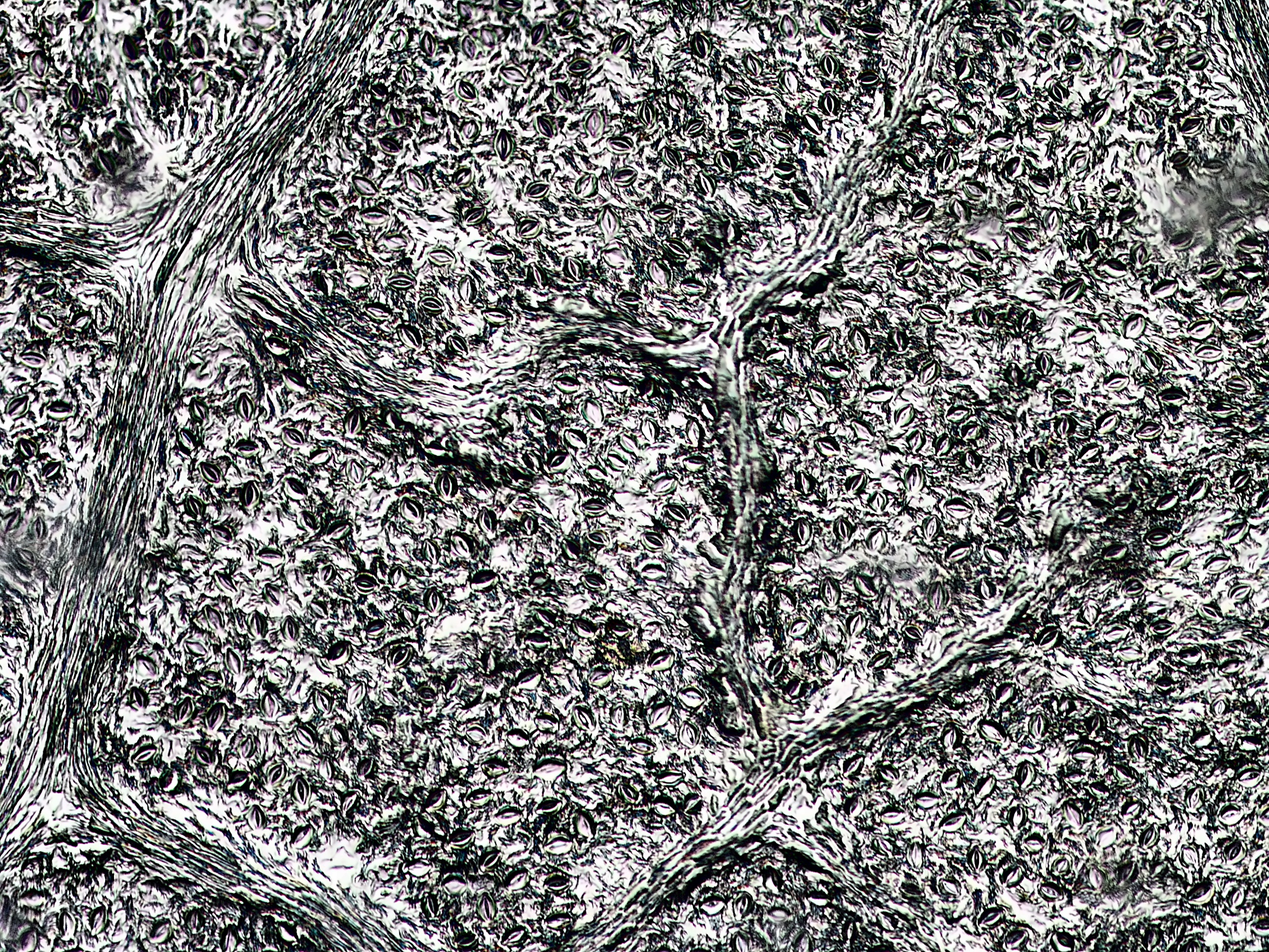stomata: (600, 241, 631, 269), (494, 126, 516, 162), (580, 399, 609, 426), (638, 558, 669, 583), (818, 575, 841, 608), (532, 758, 568, 779), (1187, 879, 1214, 907), (661, 237, 692, 261), (648, 257, 671, 289), (916, 360, 943, 387), (582, 109, 606, 139), (57, 911, 81, 941), (433, 469, 457, 499), (645, 648, 676, 671), (848, 417, 874, 444), (313, 191, 341, 216), (607, 701, 631, 730), (497, 63, 530, 84), (476, 506, 498, 537), (1041, 207, 1063, 238), (522, 631, 553, 653), (807, 383, 832, 410), (599, 206, 620, 238), (572, 704, 596, 732), (649, 702, 673, 730), (944, 497, 976, 518), (1101, 622, 1133, 643), (574, 810, 597, 839), (976, 719, 1005, 742), (481, 307, 516, 326), (4, 467, 26, 497), (223, 647, 245, 677), (246, 10, 277, 31), (1059, 277, 1084, 303), (441, 874, 468, 898), (1069, 148, 1093, 175), (89, 903, 108, 937), (1208, 400, 1242, 419), (203, 603, 226, 631), (847, 326, 870, 354), (486, 243, 515, 265), (1079, 226, 1101, 255), (1218, 290, 1247, 312), (679, 721, 701, 750), (1235, 765, 1264, 787), (290, 777, 311, 807), (404, 857, 434, 878), (534, 114, 559, 139), (397, 323, 422, 348), (4, 395, 29, 420), (282, 367, 307, 392), (328, 640, 352, 666), (790, 186, 816, 210), (1187, 477, 1211, 503), (1223, 519, 1247, 545), (1036, 627, 1062, 651), (1218, 802, 1244, 826), (0, 508, 23, 535), (574, 172, 597, 199), (896, 150, 923, 173), (1188, 317, 1215, 340), (918, 514, 941, 541), (1129, 736, 1152, 763), (457, 274, 477, 305), (477, 892, 497, 923), (578, 499, 609, 519), (930, 580, 950, 611), (819, 52, 841, 80), (639, 531, 667, 553), (1144, 348, 1166, 376), (976, 906, 1004, 928), (1063, 801, 1085, 829), (471, 570, 500, 591), (778, 407, 799, 436), (1028, 710, 1049, 739), (198, 460, 223, 484), (212, 569, 237, 593), (248, 610, 268, 640), (148, 920, 172, 945), (1194, 343, 1224, 363), (578, 572, 608, 592), (765, 904, 795, 924), (1158, 387, 1188, 407), (854, 574, 877, 600), (732, 893, 755, 919), (1223, 839, 1246, 865), (418, 293, 445, 315), (1151, 277, 1178, 299), (234, 393, 255, 421), (722, 83, 750, 104), (402, 495, 423, 523), (544, 452, 572, 473), (891, 327, 912, 355), (570, 617, 598, 638), (1135, 420, 1163, 441), (427, 247, 456, 267), (19, 351, 48, 371), (241, 480, 261, 509), (344, 406, 364, 435), (280, 615, 300, 644), (697, 171, 717, 200), (649, 203, 678, 223), (684, 418, 704, 447), (1017, 761, 1037, 790), (1185, 784, 1205, 813), (206, 701, 224, 733), (862, 385, 894, 403), (680, 684, 704, 708), (378, 134, 403, 157), (819, 92, 842, 117), (1122, 314, 1145, 339), (326, 520, 352, 542), (264, 760, 286, 786), (352, 573, 378, 595), (450, 828, 476, 850), (858, 19, 884, 41), (950, 113, 976, 135), (985, 546, 1011, 568), (66, 82, 85, 112), (364, 302, 394, 321), (917, 304, 947, 323), (964, 245, 991, 266), (587, 667, 614, 688), (630, 736, 657, 757), (834, 516, 855, 543), (868, 527, 888, 555), (914, 789, 942, 809), (657, 769, 688, 787), (1094, 826, 1117, 850), (425, 587, 444, 616), (494, 807, 523, 826), (680, 277, 709, 296), (821, 361, 850, 380), (610, 32, 632, 57), (281, 425, 306, 447), (1186, 50, 1211, 72), (1068, 191, 1090, 216), (846, 470, 868, 495), (775, 589, 797, 614), (993, 680, 1015, 705), (975, 774, 997, 799), (367, 719, 393, 740), (502, 926, 528, 947), (866, 650, 892, 671), (1166, 550, 1192, 571), (1051, 931, 1077, 952), (29, 51, 49, 78), (47, 400, 74, 420), (532, 712, 559, 732), (562, 256, 582, 283), (552, 374, 579, 394), (1008, 227, 1035, 247), (812, 436, 839, 456), (681, 454, 708, 474), (764, 556, 794, 574), (699, 895, 726, 915), (905, 463, 923, 493), (991, 505, 1018, 525), (1008, 804, 1028, 831), (19, 889, 47, 908), (693, 31, 712, 59), (606, 136, 634, 155), (1084, 781, 1112, 800), (404, 169, 427, 192), (451, 166, 474, 189), (618, 431, 641, 454), (897, 256, 920, 279), (479, 850, 503, 872), (1122, 17, 1146, 39), (665, 502, 689, 524), (1004, 930, 1028, 952), (359, 208, 390, 225), (352, 175, 377, 196), (346, 460, 367, 485), (451, 533, 472, 558), (661, 146, 682, 171), (1089, 103, 1110, 128), (893, 402, 914, 427), (876, 761, 901, 782), (1177, 846, 1202, 867), (421, 30, 439, 59), (256, 548, 285, 566), (460, 118, 480, 144), (314, 688, 334, 714), (516, 671, 542, 691), (779, 14, 799, 40), (650, 475, 676, 495), (1004, 362, 1024, 388), (29, 516, 48, 543), (483, 758, 510, 777), (774, 161, 801, 180), (1168, 232, 1195, 251), (797, 470, 816, 497), (880, 807, 907, 826), (1120, 578, 1147, 597), (544, 913, 574, 930), (1118, 647, 1148, 664), (134, 653, 156, 676), (964, 179, 986, 202), (533, 607, 556, 629), (1146, 527, 1169, 549), (121, 34, 139, 62), (457, 78, 478, 102), (220, 924, 238, 952), (341, 791, 362, 815), (390, 644, 411, 668), (505, 870, 529, 891), (545, 837, 573, 855), (818, 14, 839, 38), (1111, 49, 1129, 77), (699, 400, 723, 421), (843, 754, 864, 778), (1223, 375, 1251, 393), (1237, 733, 1265, 751), (266, 335, 291, 355), (604, 373, 629, 393), (955, 56, 975, 81), (937, 150, 957, 175), (950, 198, 970, 223), (817, 648, 837, 673), (1037, 351, 1057, 376), (1110, 763, 1135, 783), (1211, 695, 1231, 720), (318, 270, 337, 296), (160, 766, 179, 792), (637, 100, 656, 126), (642, 416, 661, 442), (612, 166, 638, 185), (722, 219, 741, 245), (771, 132, 797, 151), (1026, 175, 1052, 194), (1179, 117, 1205, 136), (1131, 241, 1150, 267), (848, 611, 867, 637), (1204, 554, 1230, 573), (386, 273, 415, 290), (986, 133, 1015, 150), (329, 231, 356, 249), (175, 697, 193, 724), (259, 692, 277, 719), (238, 732, 256, 759), (536, 798, 563, 816), (1237, 263, 1264, 281), (941, 723, 959, 750), (266, 664, 288, 686), (354, 757, 376, 779), (525, 404, 547, 426), (617, 781, 639, 803), (875, 910, 897, 932), (1052, 856, 1074, 878), (328, 724, 349, 747), (996, 27, 1017, 50), (189, 397, 209, 421), (131, 745, 155, 765), (291, 824, 311, 848), (714, 150, 734, 174), (957, 270, 981, 290), (1151, 90, 1181, 106), (1103, 257, 1127, 277), (1004, 866, 1024, 890), (567, 58, 592, 77), (555, 80, 574, 105), (209, 525, 234, 544), (18, 927, 37, 952), (347, 682, 366, 707), (463, 724, 488, 743), (1154, 494, 1179, 513), (93, 81, 111, 107), (189, 33, 207, 59), (506, 729, 532, 747), (781, 68, 799, 94), (1236, 236, 1262, 254), (907, 428, 925, 454), (1226, 582, 1252, 600), (543, 877, 572, 893), (911, 201, 933, 222), (190, 71, 210, 94), (296, 725, 316, 748), (519, 219, 542, 239), (726, 128, 749, 148), (802, 111, 822, 134), (1243, 329, 1266, 349), (975, 307, 995, 330), (762, 867, 782, 890), (1079, 602, 1099, 625), (938, 877, 961, 897), (1122, 798, 1142, 821), (529, 261, 546, 288), (906, 841, 923, 868), (1071, 746, 1098, 763), (76, 0, 95, 24), (396, 64, 415, 88), (69, 311, 93, 330), (564, 429, 588, 448), (1120, 860, 1139, 884), (129, 686, 147, 711), (199, 670, 224, 688), (185, 908, 203, 933), (248, 805, 266, 830), (467, 788, 492, 806), (928, 244, 953, 262), (1070, 326, 1095, 344), (1199, 603, 1224, 621), (11, 86, 27, 114), (795, 518, 811, 546), (1218, 657, 1246, 673), (616, 289, 642, 306), (1036, 115, 1062, 132), (941, 814, 967, 831), (1151, 618, 1177, 635), (115, 122, 136, 143), (15, 547, 36, 568), (743, 147, 764, 168), (1057, 11, 1078, 32), (1153, 674, 1174, 695), (60, 123, 82, 143), (287, 477, 307, 499), (666, 89, 686, 111), (448, 334, 468, 356), (901, 625, 923, 645), (427, 790, 446, 813), (1056, 416, 1075, 439), (391, 29, 409, 53), (185, 494, 203, 518), (263, 581, 281, 605), (423, 539, 441, 563), (422, 894, 440, 918), (745, 53, 763, 77), (641, 377, 659, 401), (995, 85, 1022, 101), (1199, 262, 1223, 280), (652, 799, 676, 817), (945, 406, 972, 422), (1098, 410, 1116, 434), (1104, 374, 1128, 392), (1086, 865, 1104, 889), (98, 150, 115, 175), (444, 673, 461, 698), (1019, 307, 1036, 332), (1170, 149, 1191, 169), (960, 450, 981, 470), (299, 510, 318, 532), (184, 638, 206, 657), (367, 619, 389, 638), (415, 816, 434, 838), (857, 69, 879, 88), (1136, 105, 1155, 127), (1231, 473, 1253, 492), (585, 465, 611, 481), (1006, 155, 1022, 181), (1134, 140, 1150, 166), (1029, 444, 1045, 470), (1143, 823, 1159, 849), (388, 105, 406, 128), (609, 618, 632, 636), (1050, 387, 1073, 405), (344, 272, 368, 289), (462, 207, 486, 224), (607, 453, 631, 470), (18, 438, 38, 458), (228, 769, 248, 789), (729, 932, 749, 952), (1078, 443, 1098, 463), (946, 545, 971, 561), (563, 539, 582, 560), (1192, 730, 1213, 749), (34, 313, 56, 331), (195, 744, 213, 766), (416, 685, 438, 703), (932, 433, 950, 455), (525, 181, 548, 198), (1033, 32, 1056, 49), (1231, 885, 1248, 908), (1202, 159, 1228, 174), (482, 650, 497, 676), (968, 846, 983, 872), (531, 21, 547, 45), (383, 234, 407, 250), (1104, 546, 1128, 562), (240, 34, 260, 53), (420, 106, 440, 125), (685, 117, 704, 137), (1050, 84, 1070, 103), (812, 332, 832, 351), (789, 618, 808, 638), (962, 423, 982, 442), (1114, 492, 1134, 511), (587, 529, 608, 547), (701, 232, 722, 250), (1217, 114, 1235, 135), (1101, 182, 1122, 200), (869, 491, 887, 512), (161, 40, 176, 65), (462, 35, 477, 60), (234, 440, 259, 455), (156, 8, 173, 30), (560, 8, 577, 30), (178, 427, 195, 449), (683, 792, 700, 814), (1040, 883, 1062, 900), (319, 757, 335, 780), (390, 565, 406, 588), (786, 678, 802, 701), (978, 577, 994, 600), (1089, 713, 1105, 736), (42, 461, 60, 481), (380, 689, 400, 707), (521, 515, 539, 535), (1118, 207, 1138, 225), (878, 835, 898, 853), (35, 280, 56, 297), (308, 448, 329, 465), (402, 606, 419, 627), (846, 795, 863, 816), (1024, 834, 1045, 851), (455, 932, 477, 948), (19, 156, 38, 174), (1064, 52, 1082, 71), (1007, 202, 1025, 221), (808, 888, 827, 906), (530, 570, 550, 587), (383, 407, 399, 428), (768, 655, 782, 679), (480, 27, 495, 49), (1155, 35, 1177, 50), (1251, 917, 1269, 935), (942, 770, 961, 787), (319, 563, 335, 583), (1181, 647, 1202, 662), (1144, 925, 1159, 946), (1257, 488, 1269, 514), (1062, 770, 1086, 783), (765, 348, 784, 364), (157, 87, 170, 109), (458, 2, 473, 21), (370, 83, 387, 99), (232, 65, 250, 80), (498, 0, 522, 11), (1006, 0, 1024, 14), (680, 0, 694, 13), (733, 0, 750, 9), (1186, 942, 1200, 952)
